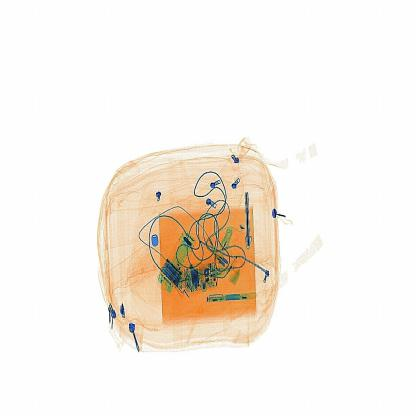knife: (240, 190, 252, 253)
